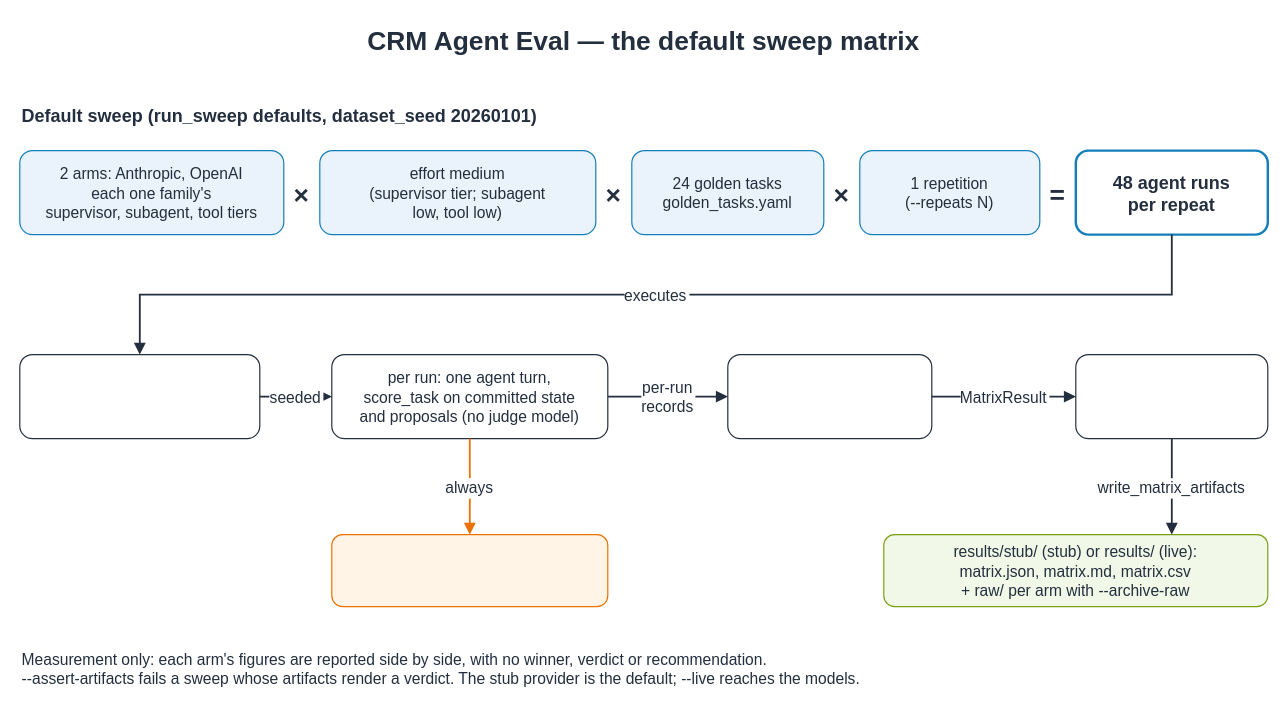
Image size: 1288x722. Some labels were removed from this diagram. Here are the shapes that lost their labels. From the top down, the centre of each, then its label:
the point at 139,396: run_sweep allocate run_id, seed one tenant per arm × repeat
the point at 829,396: build_matrix_result per-tier comparison + per-arm figures
the point at 1171,396: render_json render_markdown render_csv
the point at 469,570: finally: demo delta checks, teardown of every unit tenant
